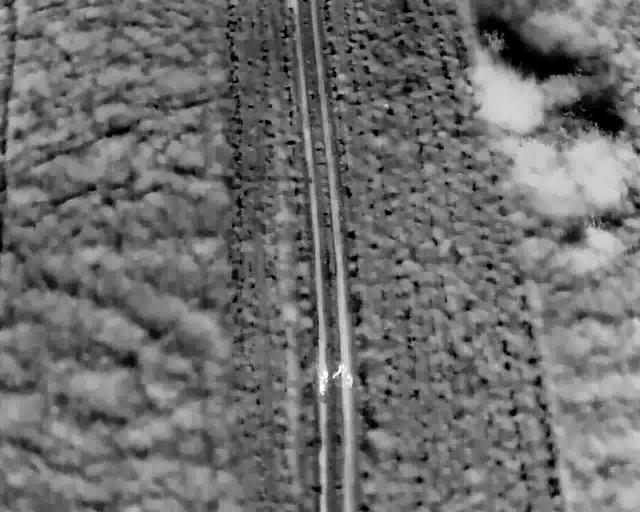person: (330, 361, 346, 379), (318, 375, 328, 397), (344, 370, 354, 389), (319, 366, 329, 385)
